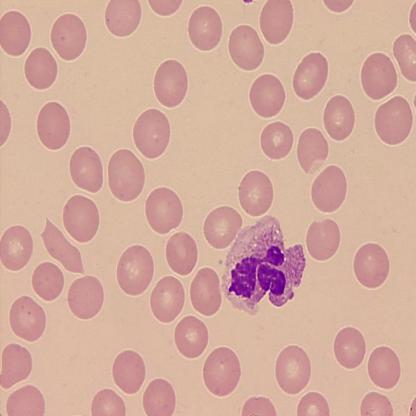Segmented neutrophil: (219, 212, 307, 316)
